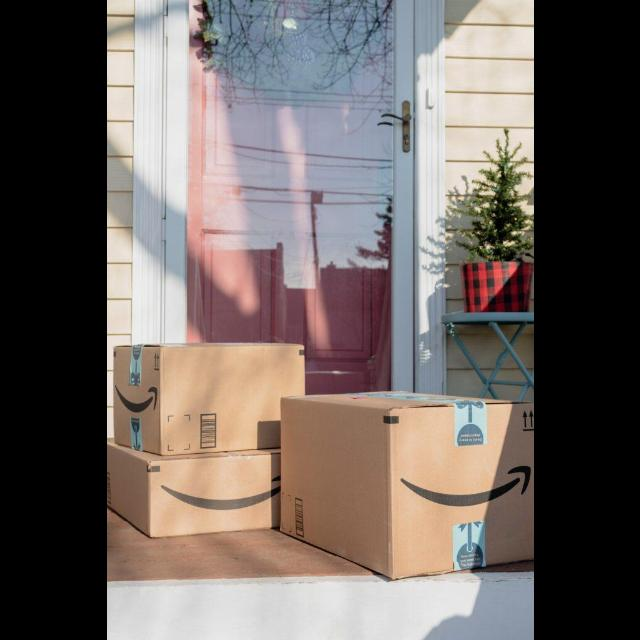box: (276, 389, 534, 585), (112, 342, 308, 450), (105, 439, 282, 539)
